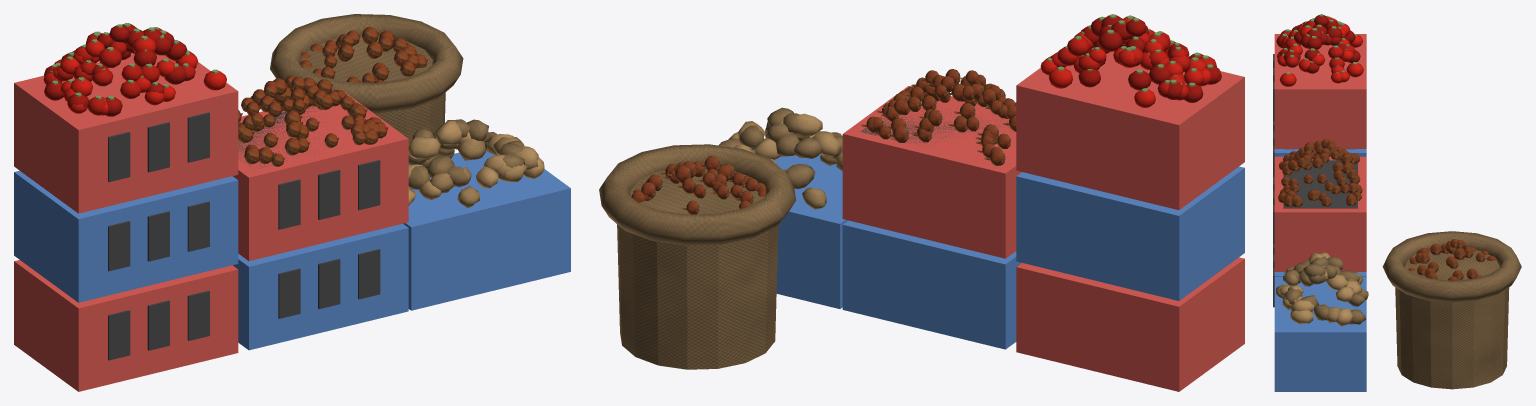
The model's file is market_crates.glb.
The picture shows the model from 3 angles, left to right: view 1: azimuth 30°, elevation 25°; view 2: azimuth 150°, elevation 25°; view 3: azimuth 270°, elevation 25°; orthographic projection. The views are drawn at different scales.
Visible parts, largest first — view 1: market_crates; view 2: market_crates; view 3: market_crates.
Boxes of the visible parts, x1=… form: market_crates: x1=14, y1=14, x2=570, y2=391; market_crates: x1=599, y1=14, x2=1244, y2=391; market_crates: x1=1273, y1=14, x2=1521, y2=391.
Bounding box in the file's own units: 1.87 × 1.18 × 1.13.
Materials: 12 (8 with a texture image).
